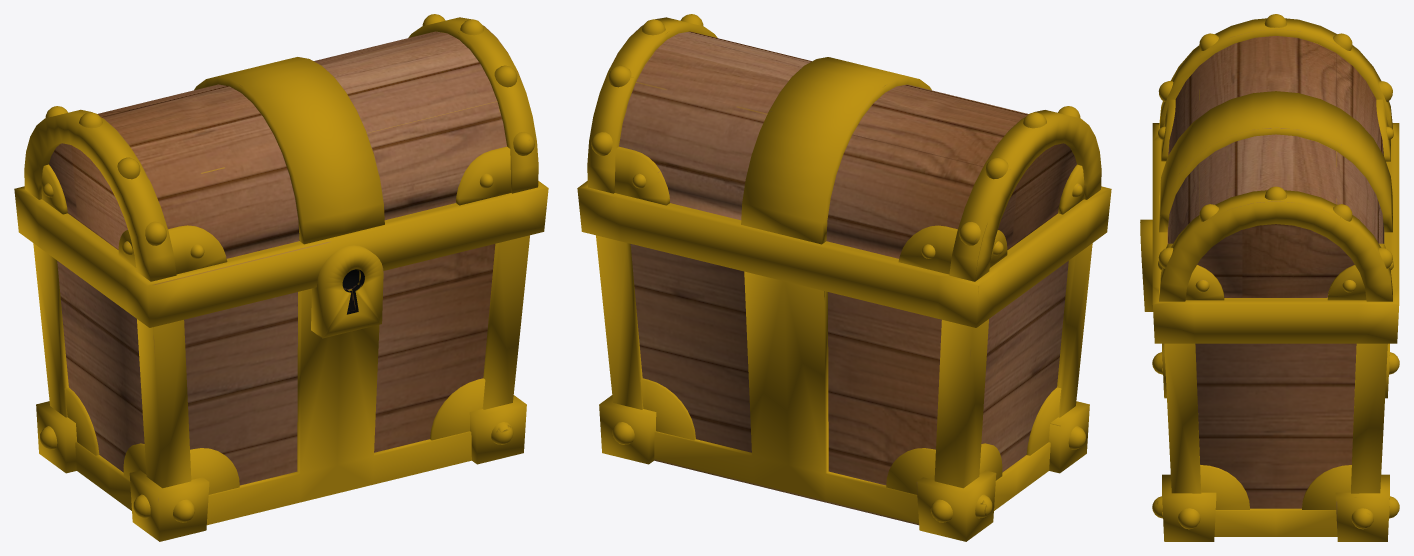
File: Treasure-Box.glb
The picture shows the model from 3 angles, left to right: view 1: azimuth 30°, elevation 25°; view 2: azimuth 150°, elevation 25°; view 3: azimuth 270°, elevation 25°; orthographic projection. The views are drawn at different scales.
Visible parts, largest first — view 1: Chest_02.005_Baked, Chest_Hood.005_Baked; view 2: Chest_02.005_Baked, Chest_Hood.005_Baked; view 3: Chest_Hood.005_Baked, Chest_02.005_Baked.
Boxes of the visible parts, box(x1,y1,x2,y2) form: Chest_02.005_Baked: box(14, 181, 548, 541); Chest_Hood.005_Baked: box(24, 14, 538, 281); Chest_02.005_Baked: box(577, 181, 1111, 541); Chest_Hood.005_Baked: box(587, 14, 1101, 281); Chest_Hood.005_Baked: box(1158, 14, 1393, 301); Chest_02.005_Baked: box(1140, 123, 1399, 541).
Bounding box in the file's own units: 2.85 × 2.59 × 1.7.
2 materials, 2 textured.
